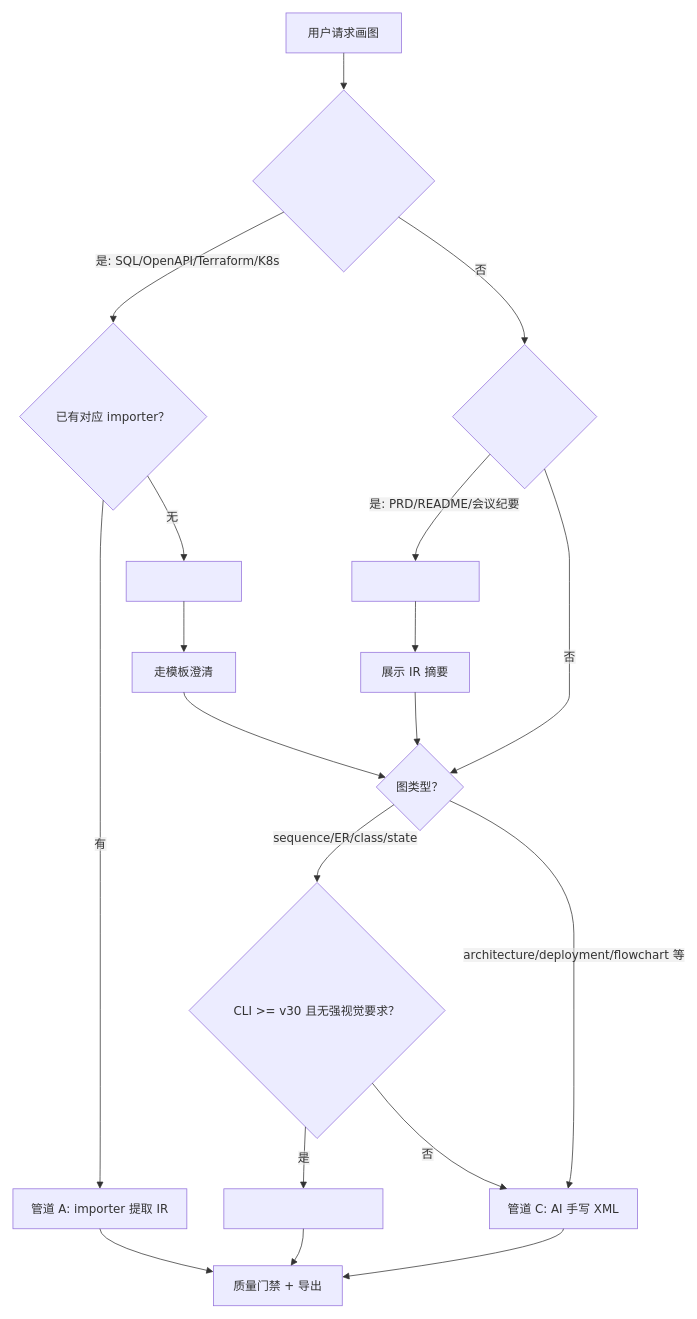
Image size: 697x1319. Some labels were removed from this diagram. Here are the shapes that lost their labels. From the top down, the box of each, then its label:
(252, 89, 435, 272): 给了可解析源文件？
(452, 344, 597, 489): 给了普通文档？
(125, 561, 242, 601): 读取文件内容
(351, 561, 479, 601): 从文档抽取结构
(223, 1188, 383, 1229): 管道 B: Mermaid 转换
